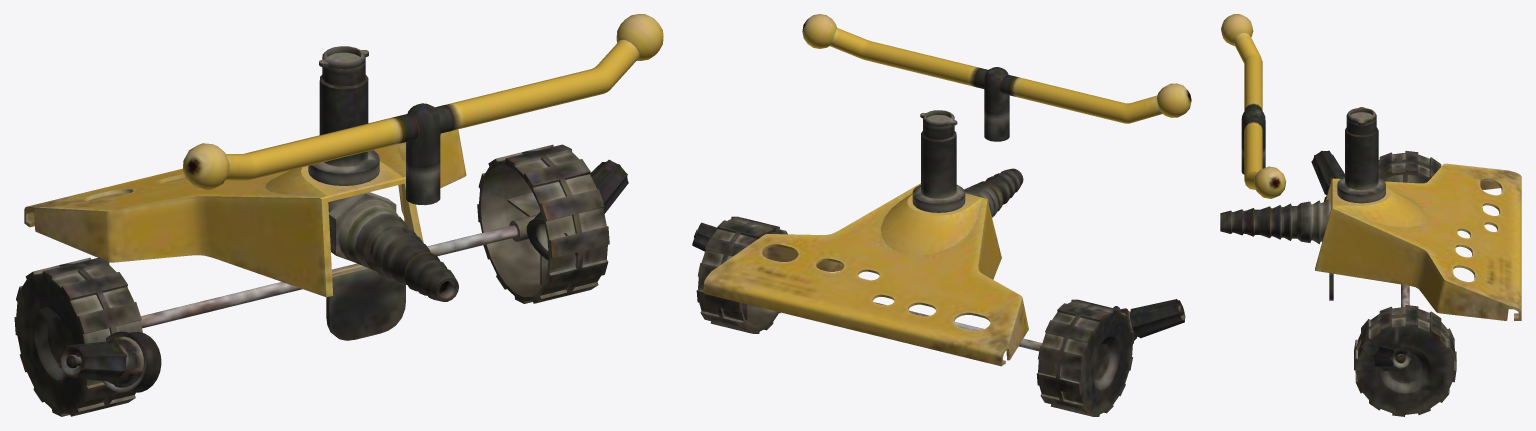
Rendered from sprinkler.glb.
The picture shows the model from 3 angles, left to right: view 1: azimuth 30°, elevation 25°; view 2: azimuth 150°, elevation 25°; view 3: azimuth 270°, elevation 25°; orthographic projection. The views are drawn at different scales.
Visible parts, largest first — view 1: garden_sprinkler_01_body_main, garden_sprinkler_01_wheels, garden_sprinkler_01_spinner, garden_sprinkler_01_nozel_left, garden_sprinkler_01_nozel_right; view 2: garden_sprinkler_01_body_main, garden_sprinkler_01_wheels, garden_sprinkler_01_spinner, garden_sprinkler_01_nozel_left; view 3: garden_sprinkler_01_body_main, garden_sprinkler_01_wheels, garden_sprinkler_01_spinner, garden_sprinkler_01_nozel_left, garden_sprinkler_01_nozel_right.
Part boxes in pixels (x1=…): garden_sprinkler_01_body_main: x1=24, y1=46, x2=466, y2=340; garden_sprinkler_01_wheels: x1=14, y1=144, x2=609, y2=416; garden_sprinkler_01_spinner: x1=183, y1=14, x2=663, y2=205; garden_sprinkler_01_nozel_left: x1=59, y1=331, x2=161, y2=392; garden_sprinkler_01_nozel_right: x1=526, y1=159, x2=628, y2=259; garden_sprinkler_01_body_main: x1=703, y1=110, x2=1028, y2=366; garden_sprinkler_01_wheels: x1=696, y1=216, x2=1133, y2=416; garden_sprinkler_01_spinner: x1=802, y1=14, x2=1191, y2=141; garden_sprinkler_01_nozel_left: x1=1113, y1=299, x2=1185, y2=340; garden_sprinkler_01_body_main: x1=1220, y1=107, x2=1521, y2=320; garden_sprinkler_01_wheels: x1=1354, y1=151, x2=1456, y2=416; garden_sprinkler_01_spinner: x1=1221, y1=14, x2=1286, y2=198; garden_sprinkler_01_nozel_left: x1=1311, y1=150, x2=1344, y2=201; garden_sprinkler_01_nozel_right: x1=1373, y1=343, x2=1411, y2=370.
Size of the model in its own units: 0.3508 by 0.1904 by 0.218.
1 material, 1 textured.
